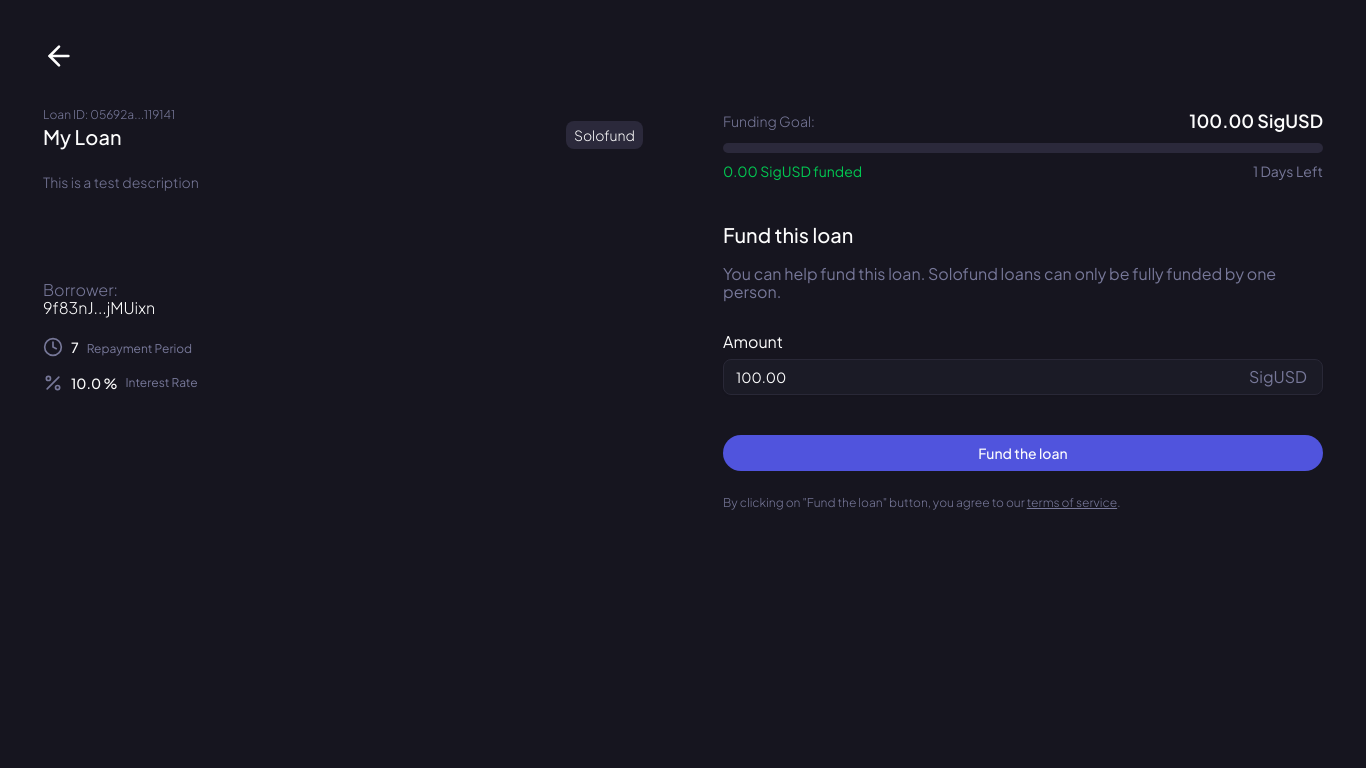
Test: LoanDetails › Error Handling › should show error message on failure
The width and height of the screenshot is (1366, 768).
Click the button "Fund the loan" at (1023, 453), box [723,435,1323,471]
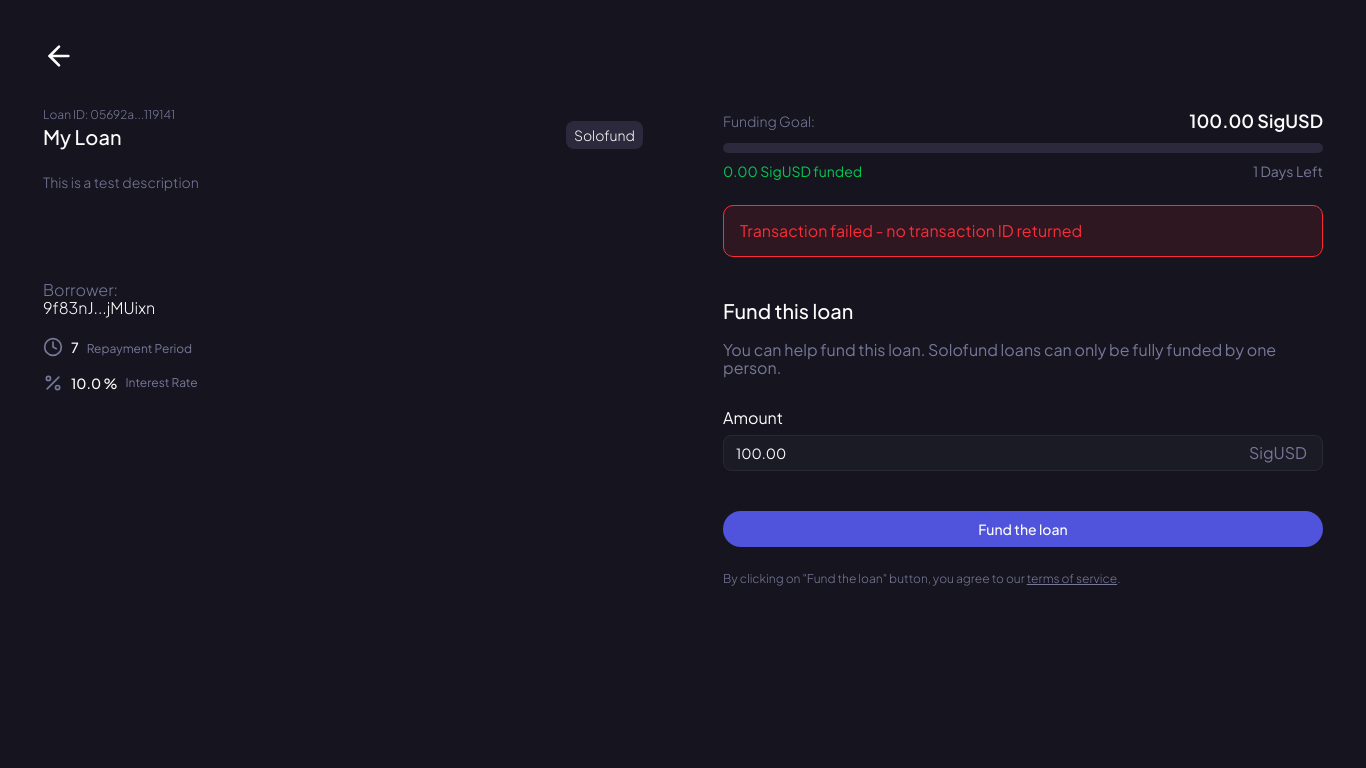
expect the text "Transaction failed - no transaction ID returned" is shown: met, box [723,205,1323,257]
